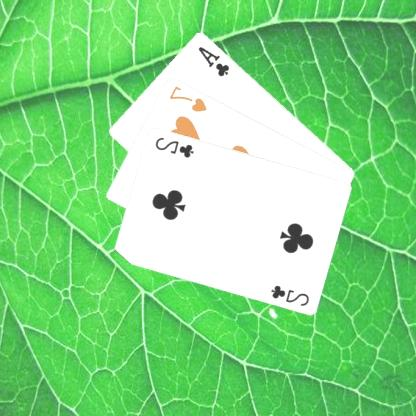2C: (154, 134, 197, 159), (270, 282, 312, 307)
7H: (168, 82, 210, 113)
AC: (196, 43, 233, 78)
